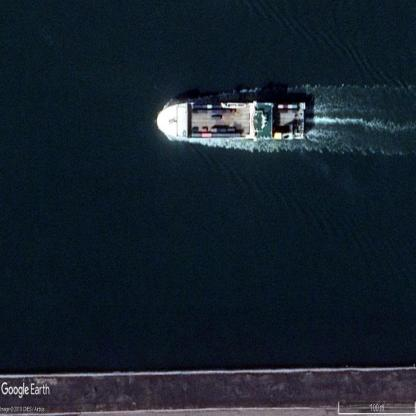ship: (157, 95, 308, 144)
